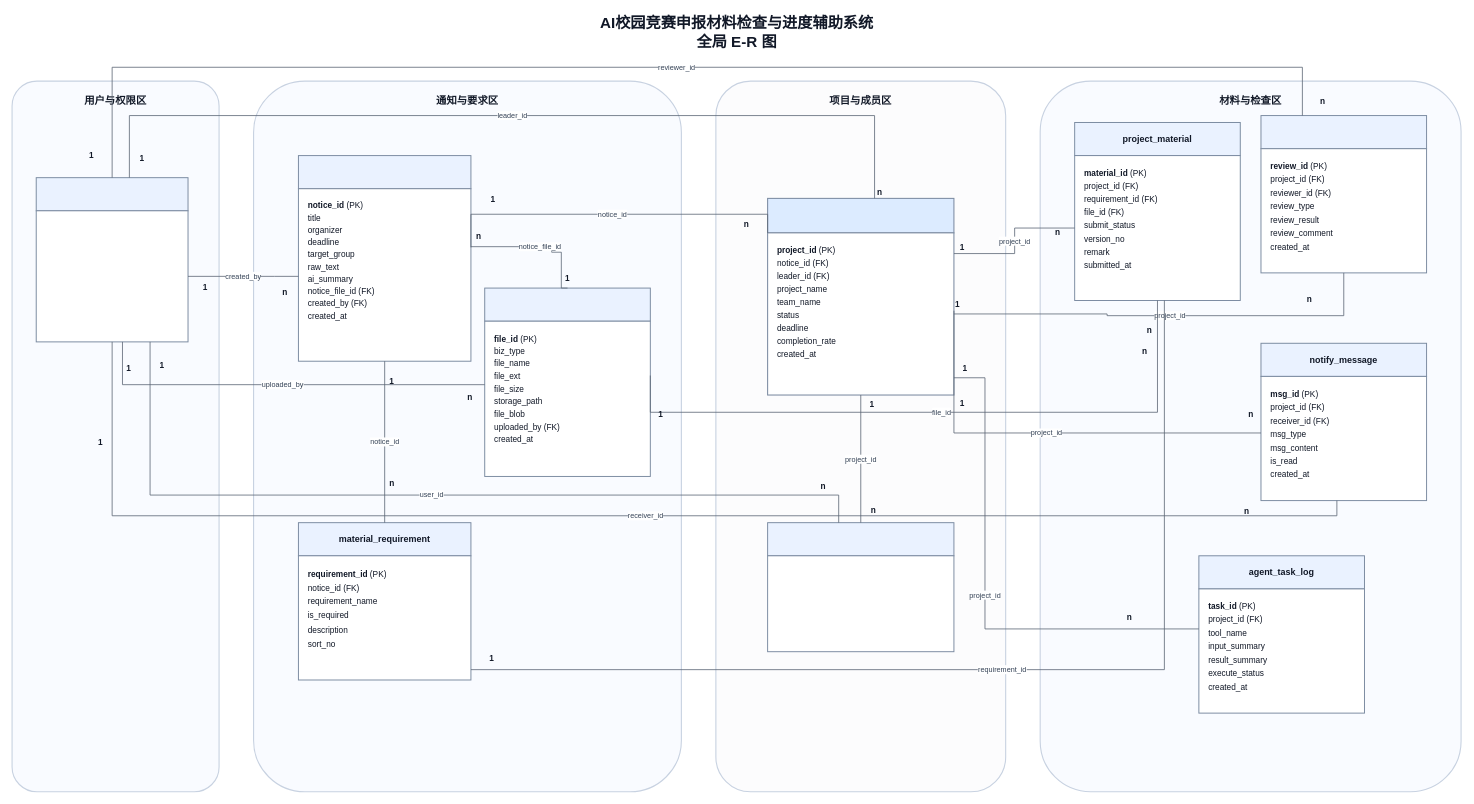
This 1474x804 diagram has some shape labels left out. The centre of each missing label's shape, as x and y in pixels:
competition_notice: the point at 384,172
competition_project: the point at 860,215
file_asset: the point at 567,304
member_id (PK) project_id (FK) user_id (FK) member_role join_time: the point at 860,603
project_member: the point at 860,539
review_record: the point at 1343,132
sys_user: the point at 111,194
user_id (PK) username password real_name role phone created_at: the point at 111,276
